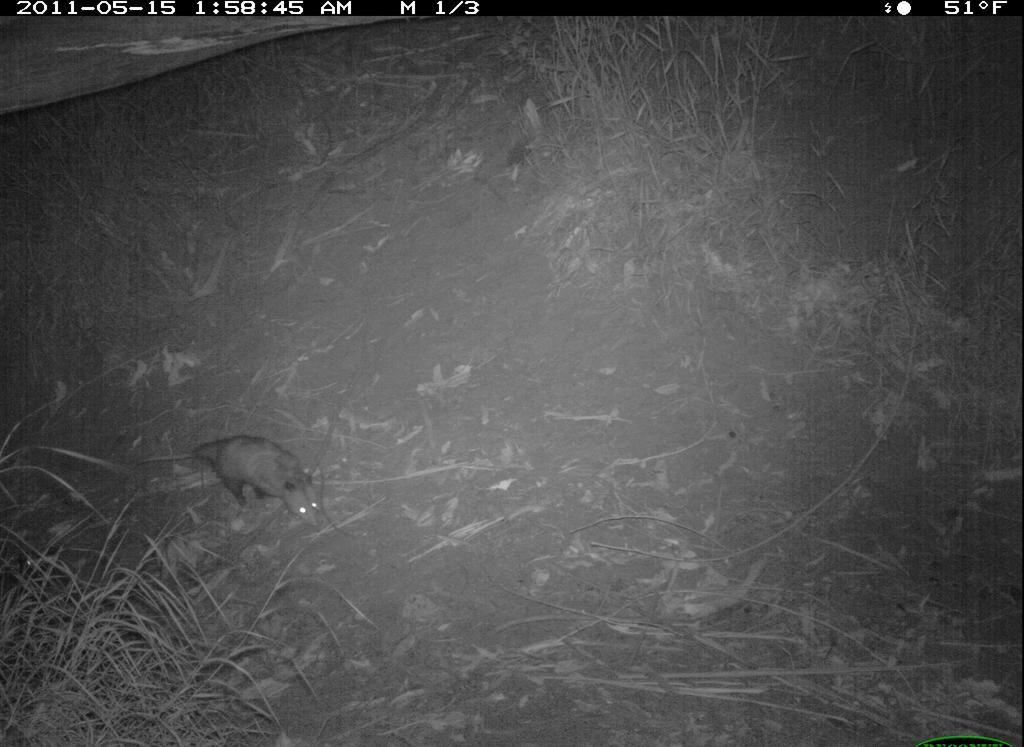opossum: (157, 431, 358, 536)
